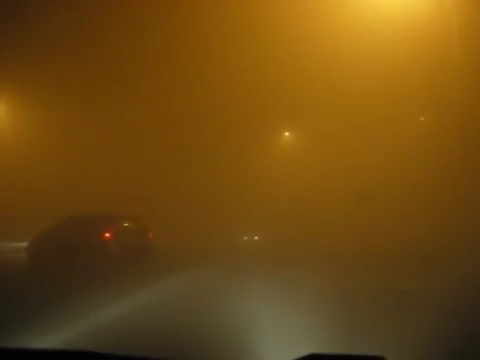car: (27, 210, 155, 274)
